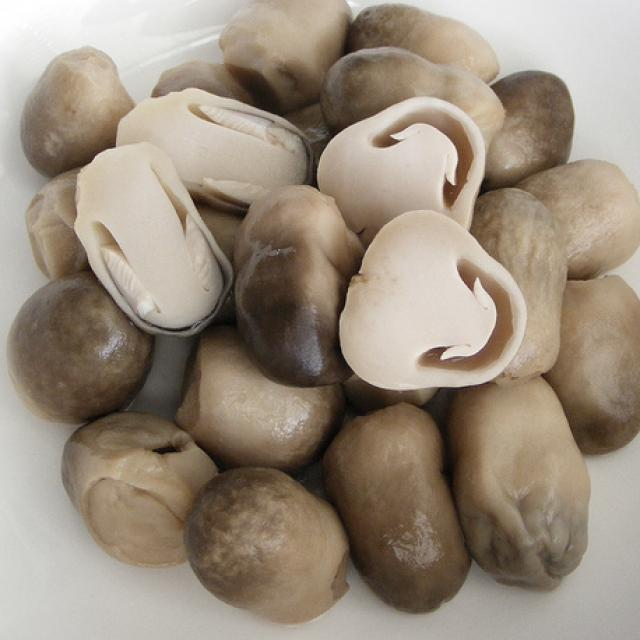Mushroom: (86, 87, 588, 580), (338, 206, 527, 395), (73, 140, 240, 336), (64, 411, 218, 566)
